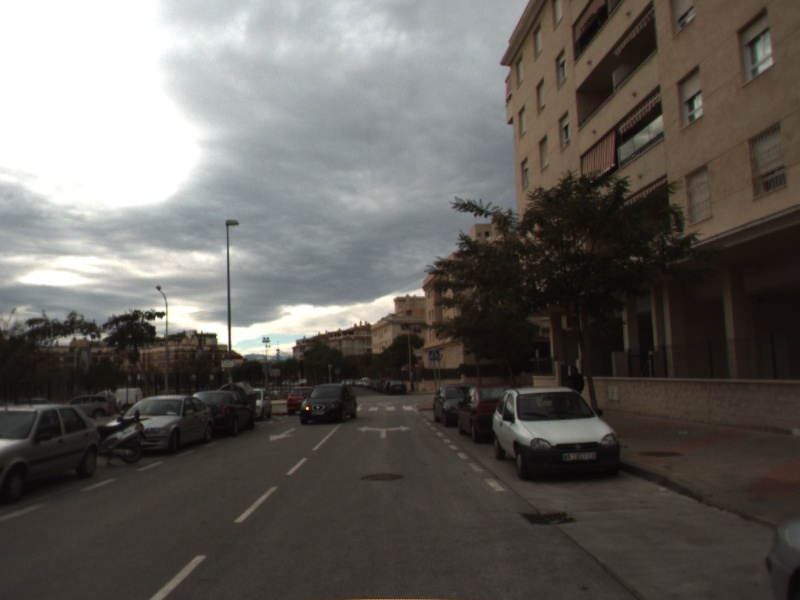LEFT_RIGHT: (355, 423, 412, 440)
